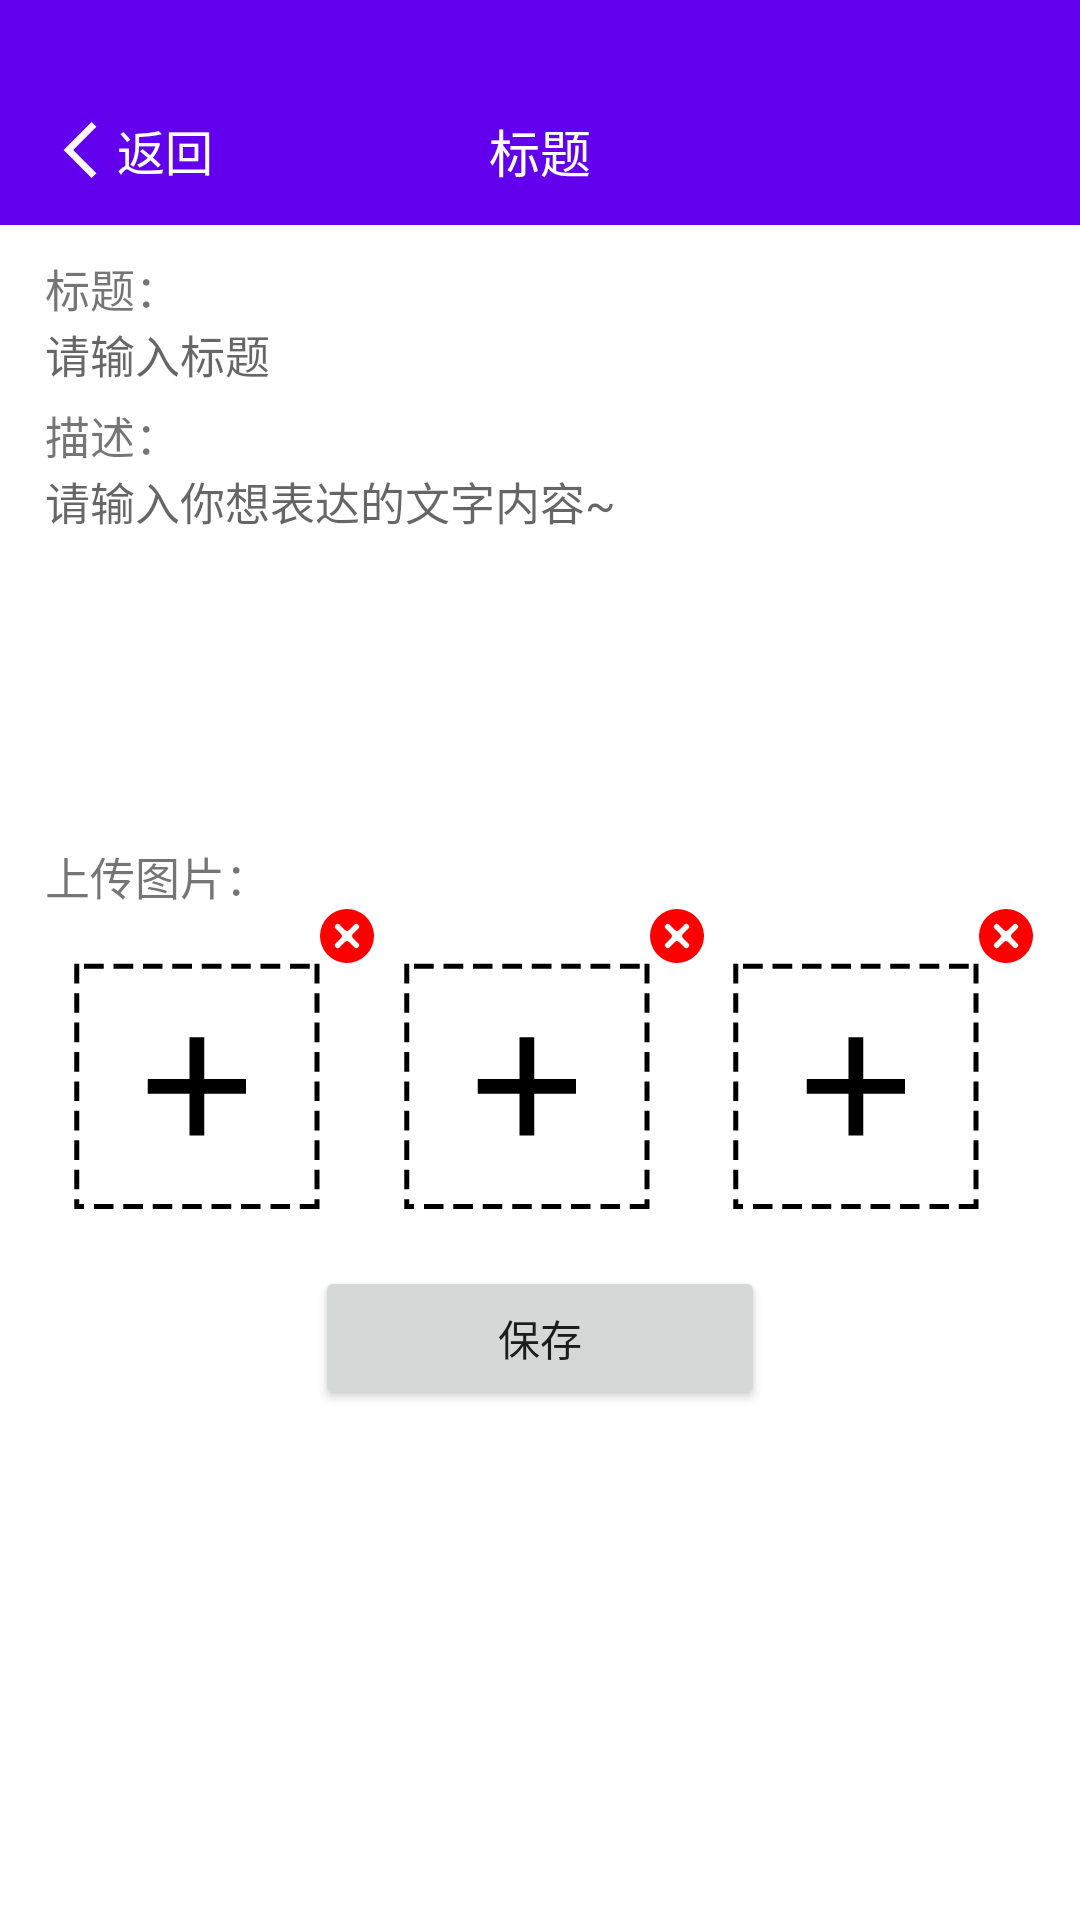

Where icons sit on this 1080px×1920px app screen, as (x1, y1, x2, y2):
delete: (320, 909, 374, 963), (650, 909, 704, 963), (979, 909, 1033, 963)
